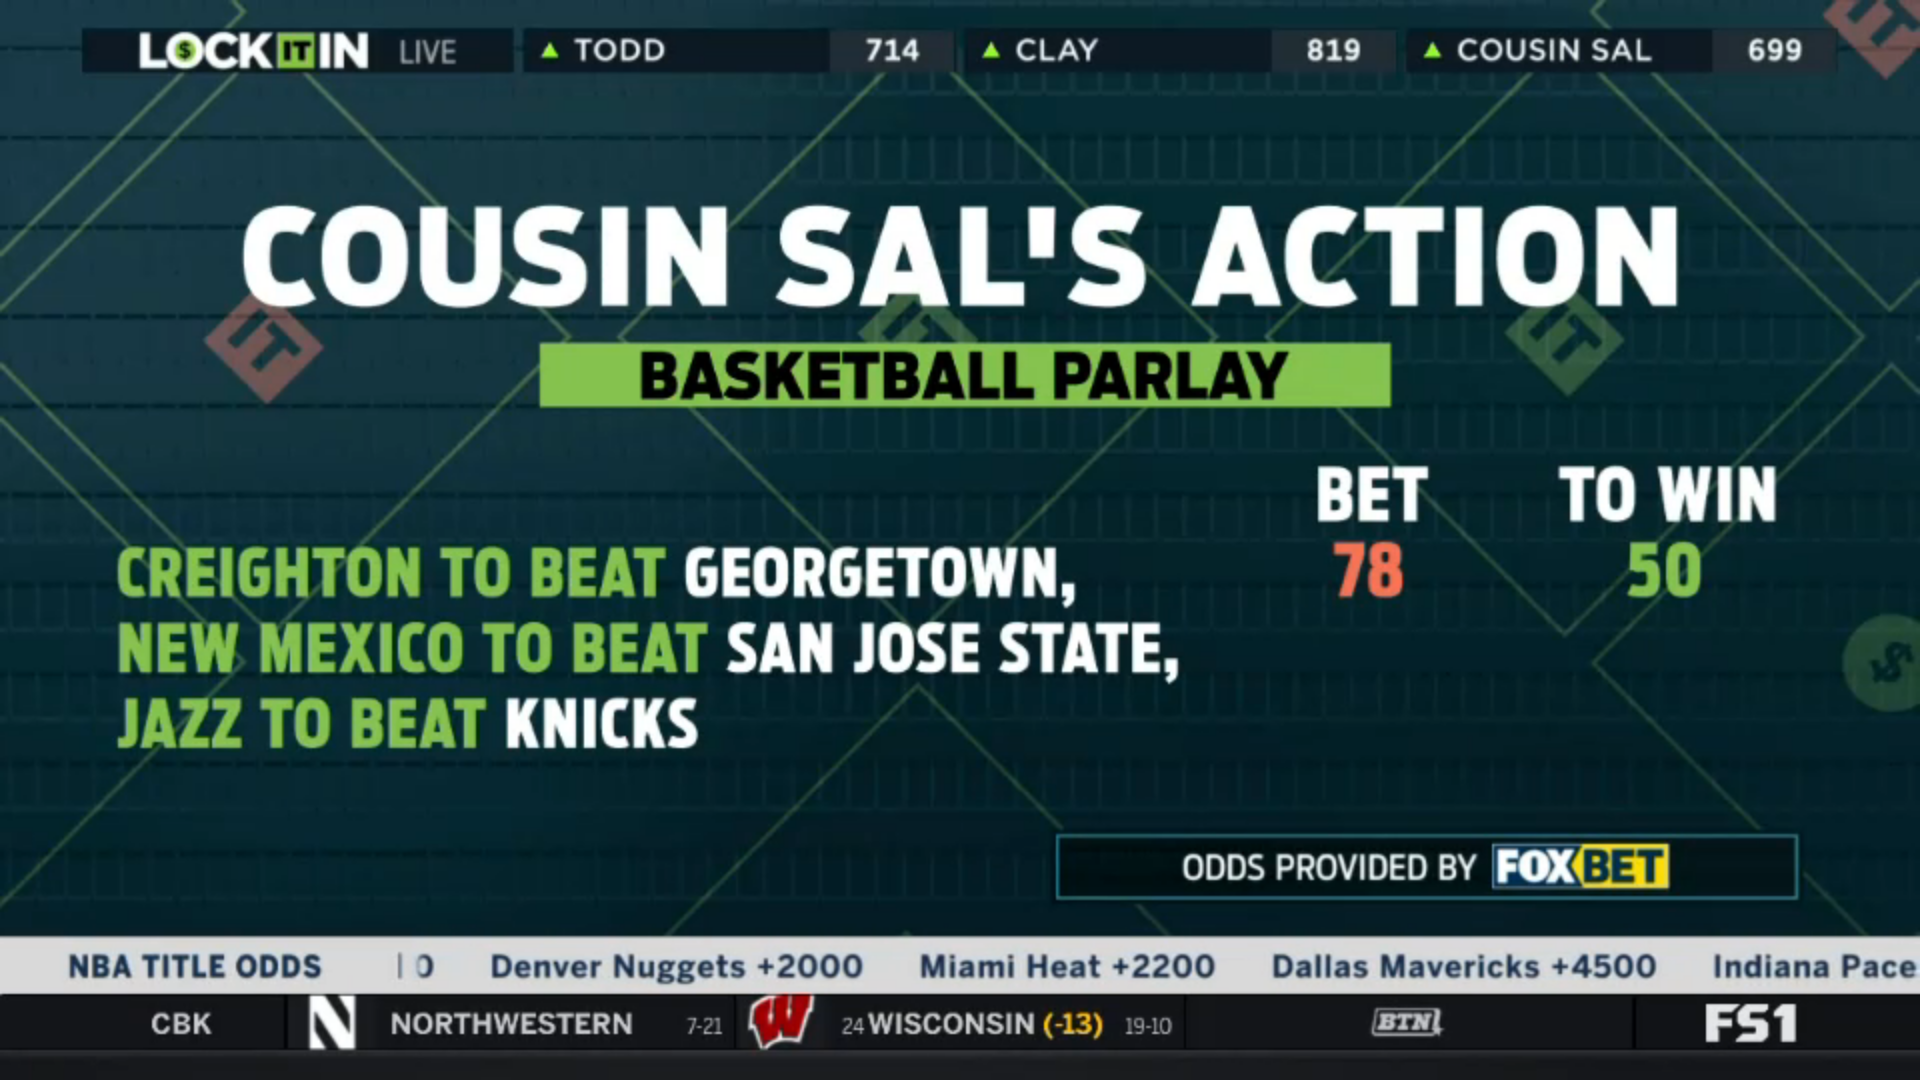Bet: (108, 533, 1189, 760)
Bet Amount: (1303, 447, 1441, 608)
Subtitle: (531, 328, 1404, 417)
Title: (237, 191, 1692, 319)
To Win: (1547, 452, 1791, 613)
Top Bar: (75, 18, 1849, 79)
